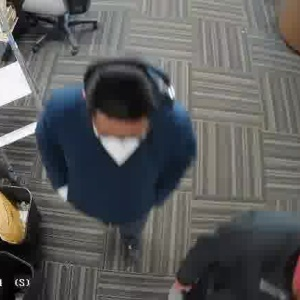person: (39, 49, 175, 229)
